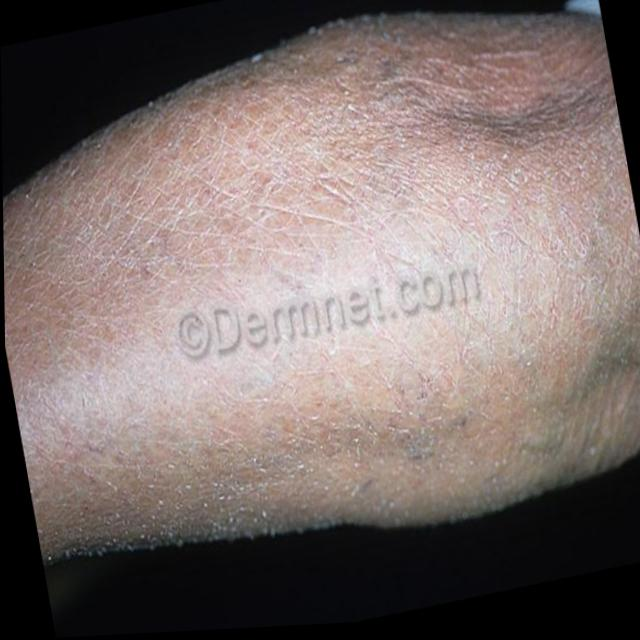liquenificacion 1: (3, 8, 640, 563)
